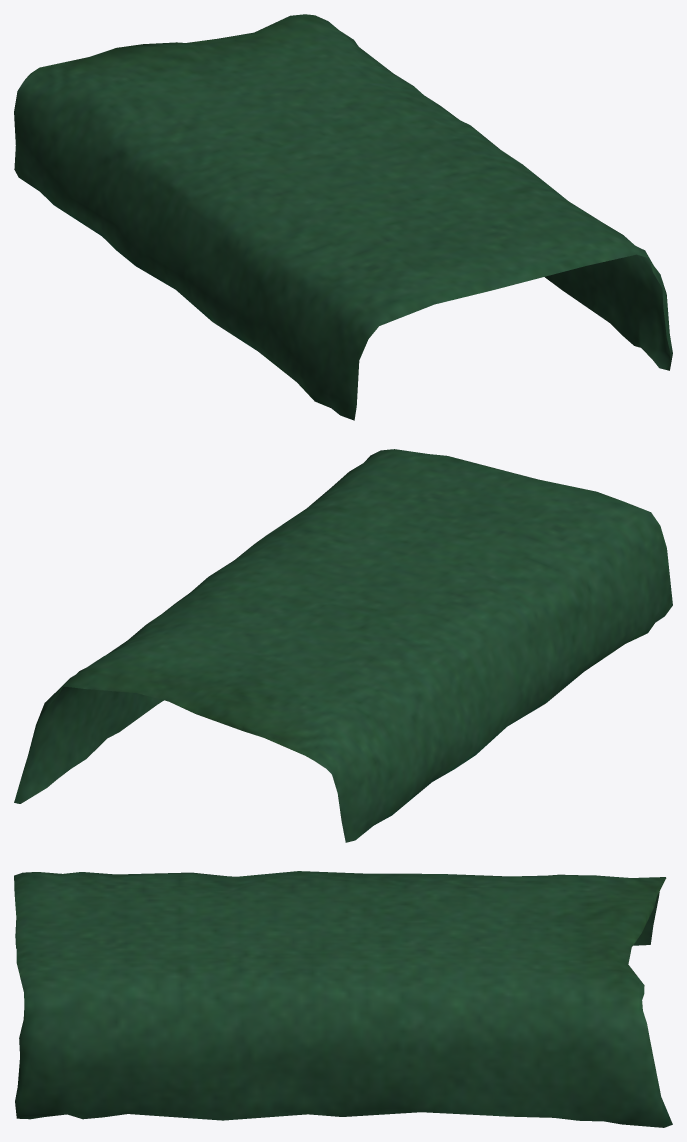
File: single_bedsheet_1.fbx
The picture shows the model from 3 angles, top to bottom: view 1: azimuth 30°, elevation 25°; view 2: azimuth 150°, elevation 25°; view 3: azimuth 270°, elevation 25°; orthographic projection. The views are drawn at different scales.
Parts seen in each view (by area): view 1: single_bedsheed_1; view 2: single_bedsheed_1; view 3: single_bedsheed_1.
Part boxes in pixels (box(x1,y1,x2,y2)): single_bedsheed_1: box(14, 14, 672, 420); single_bedsheed_1: box(14, 449, 672, 842); single_bedsheed_1: box(14, 871, 672, 1127).
Bounding box in the file's own units: 1.28 × 0.4909 × 2.31.
